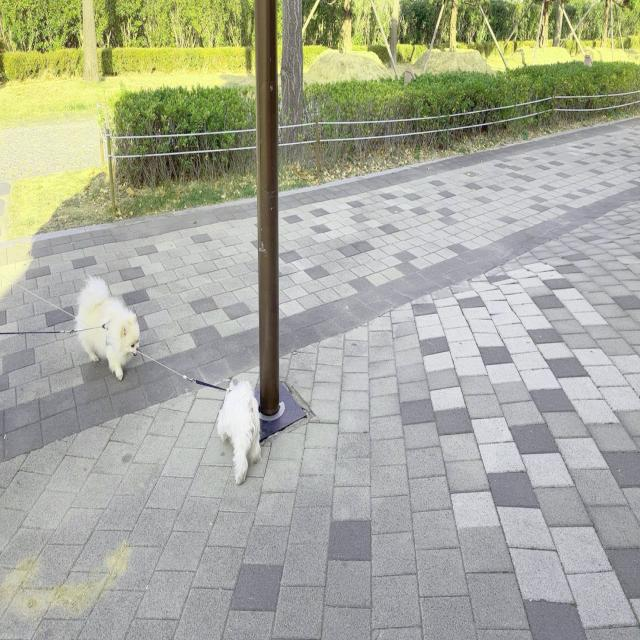Dog: (75, 274, 140, 383), (215, 377, 262, 488)
